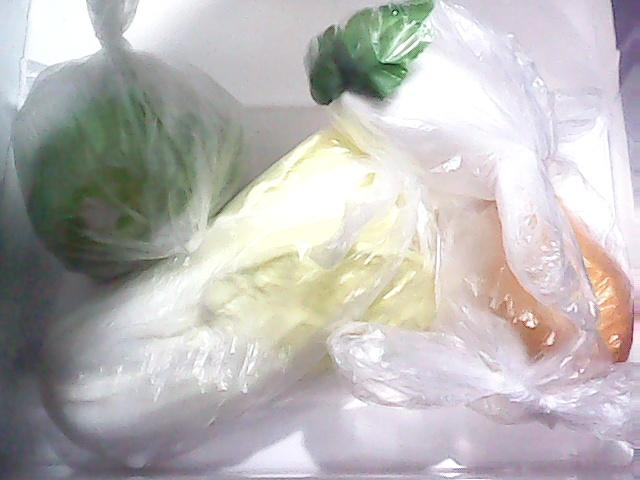cabbage: (24, 40, 230, 272)
mango: (442, 157, 636, 394)
napa cabbage: (39, 111, 434, 469)
radish: (303, 1, 583, 199)
